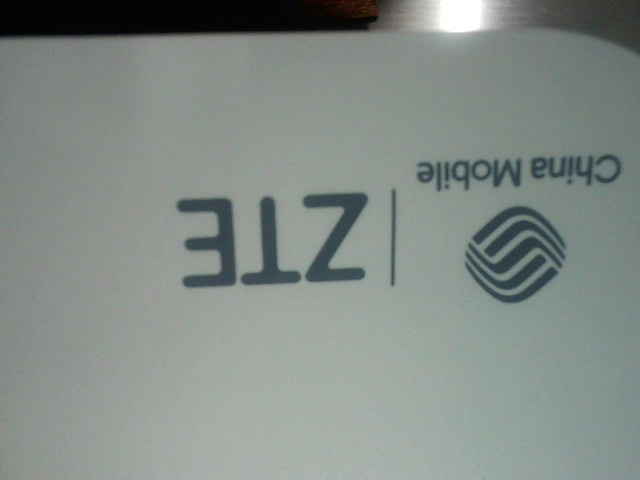AL_ZTEChinaMobile: (138, 140, 631, 308)
